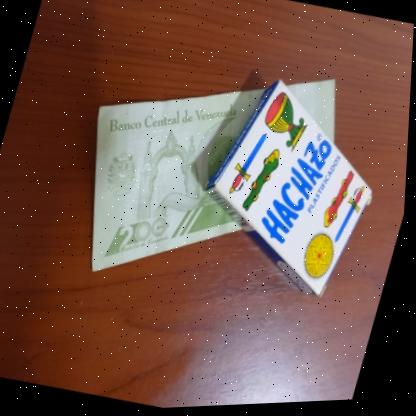fifty-back-vef: (53, 29, 355, 322)
